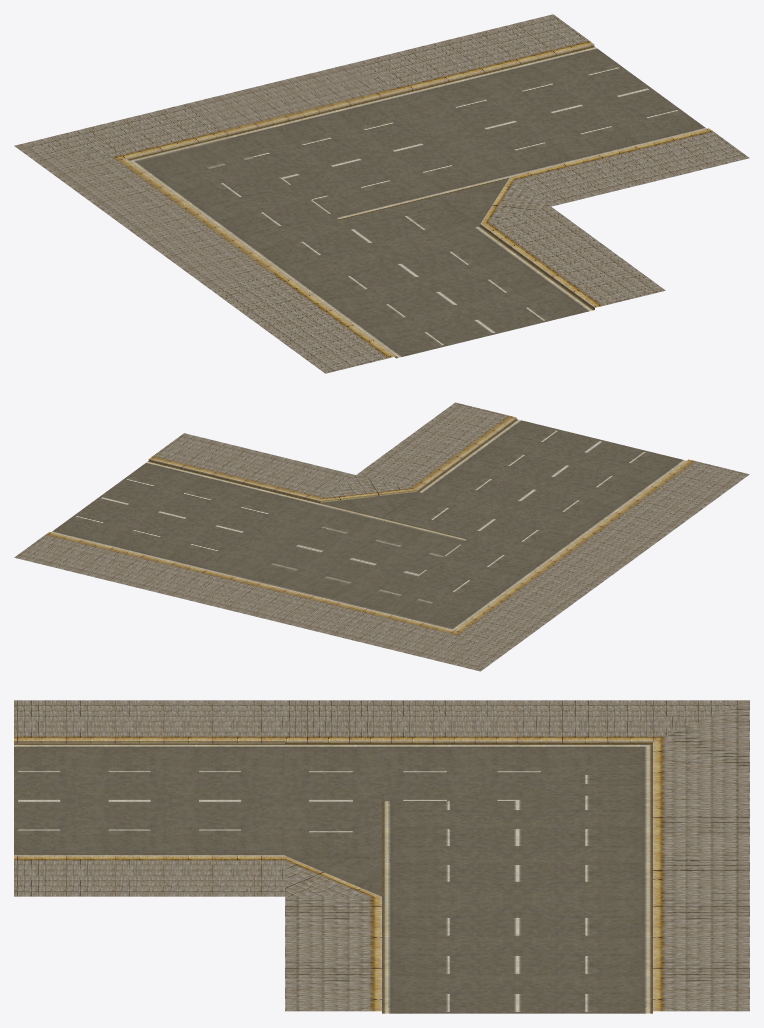
Rendered from Road2_Part_05_A.fbx.
3 views of the same model, one above another, from view 1: azimuth 30°, elevation 25°; view 2: azimuth 150°, elevation 25°; view 3: azimuth 270°, elevation 25° (orthographic). The views are drawn at different scales.
Parts seen in each view (by area): view 1: Road_Part_10; view 2: Road_Part_10; view 3: Road_Part_10.
Boxes of the visible parts, <box> form: Road_Part_10: <box>14,14,749,373</box>; Road_Part_10: <box>14,402,749,671</box>; Road_Part_10: <box>14,700,749,1013</box>.
Size of the model in its own units: 3800 by 13.63 by 3800.
